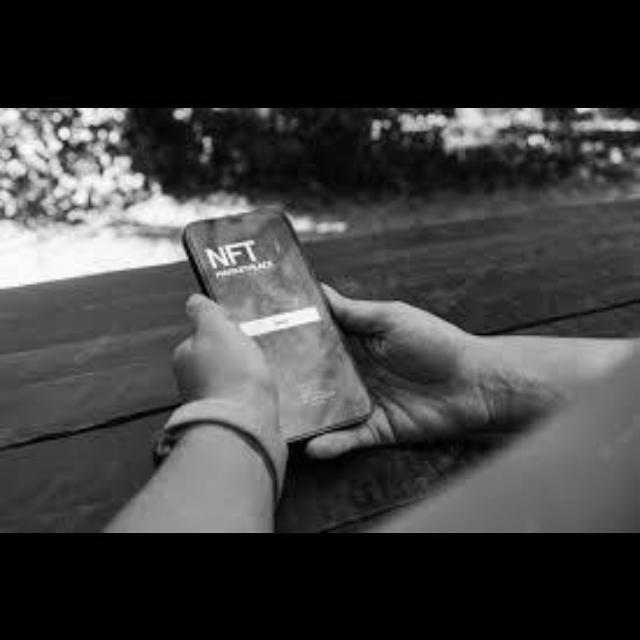fake: (176, 191, 378, 469)
